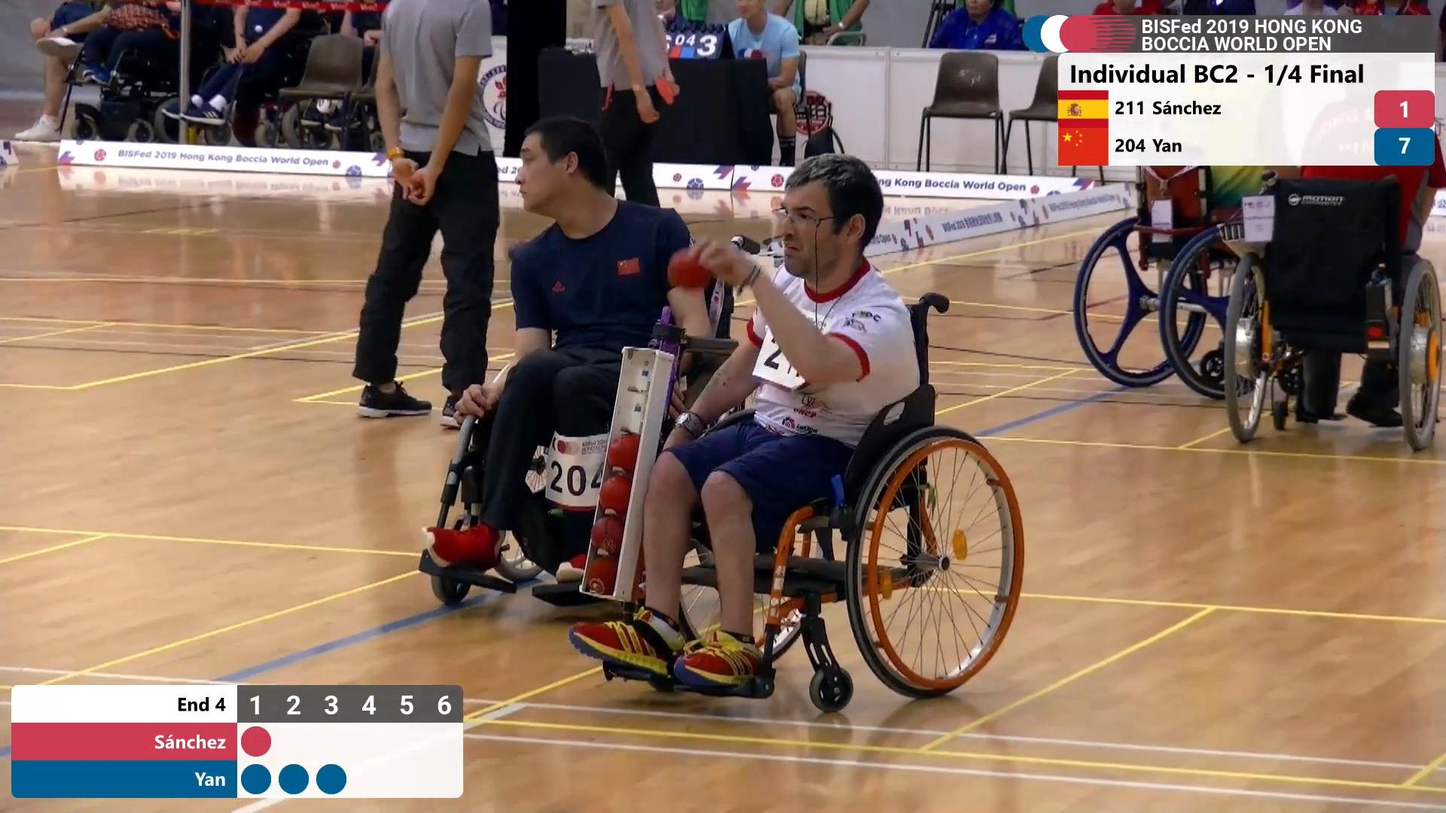red_ball: (664, 250, 713, 296)
